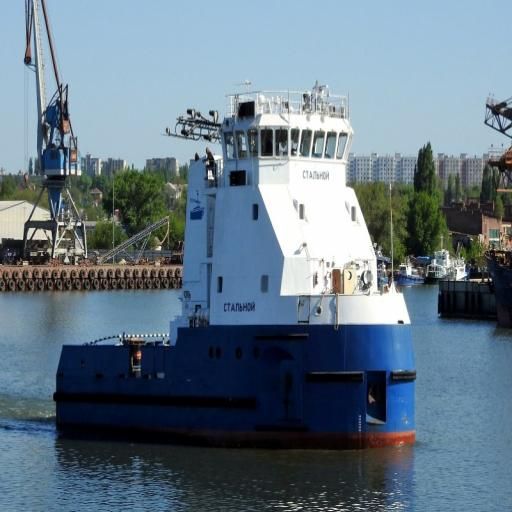tugboat: (53, 77, 419, 456)
